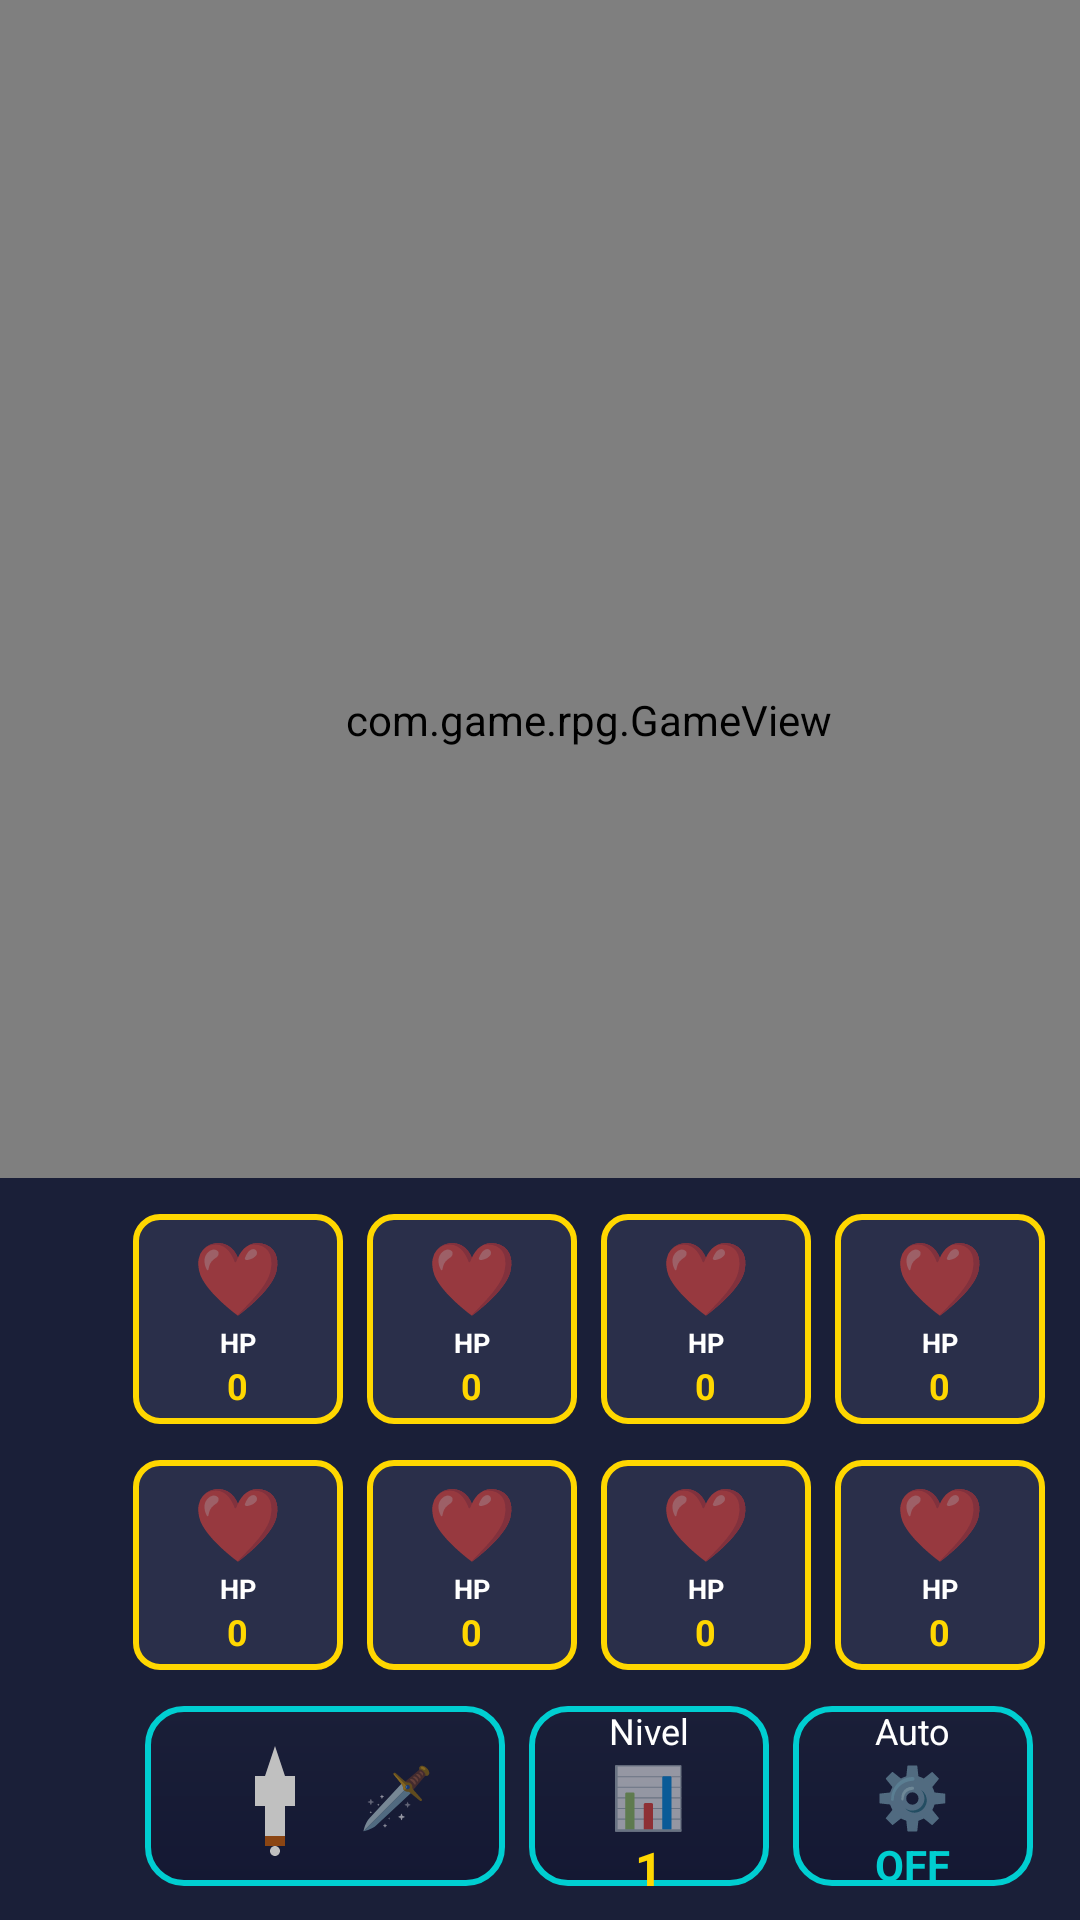

Point at icon controls on the screen. Image size 1080px×1920px, points as (x,y).
Kunai: (275,1801)
